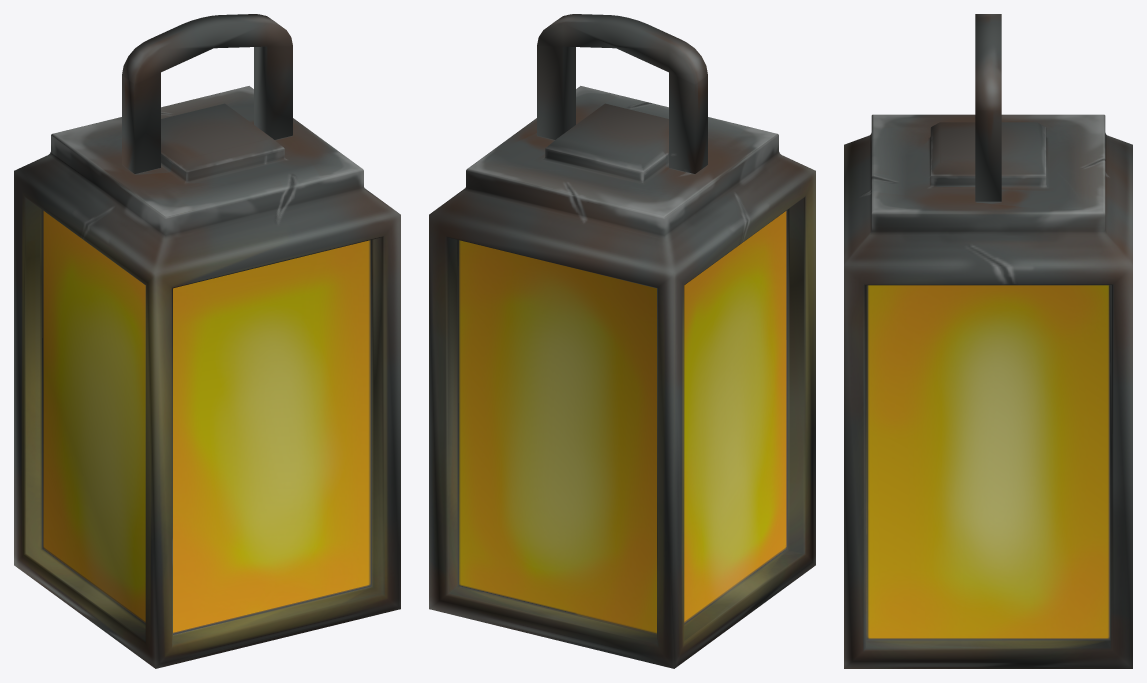
The model's file is Loki1.glb.
3 views of the same model, side by side, from view 1: azimuth 30°, elevation 25°; view 2: azimuth 150°, elevation 25°; view 3: azimuth 270°, elevation 25° (orthographic).
Visible parts, largest first — view 1: Lnatern; view 2: Lnatern; view 3: Lnatern.
Part boxes in pixels (x1=…): Lnatern: x1=14, y1=14, x2=400, y2=668; Lnatern: x1=429, y1=14, x2=815, y2=668; Lnatern: x1=844, y1=14, x2=1132, y2=668.
Size of the model in its own units: 2 by 4.4 by 2.
Materials: 1 (1 with a texture image).
